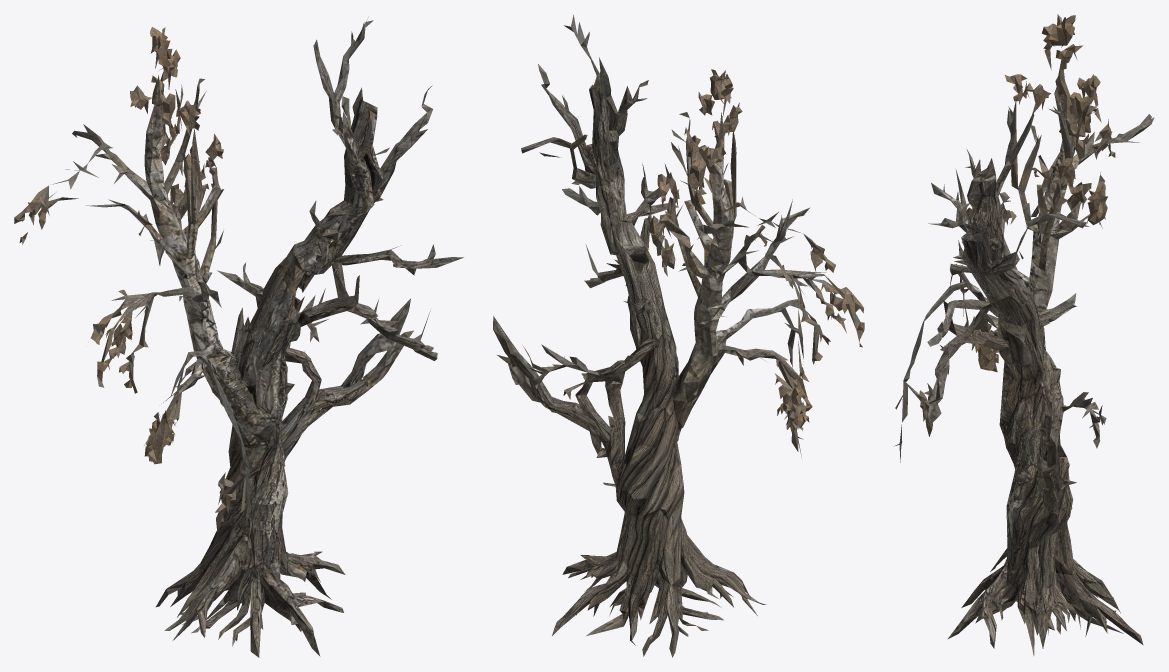
Rendered from Dead_Autumn_Tree_6000.glb.
3 views of the same model, side by side, from view 1: azimuth 30°, elevation 25°; view 2: azimuth 150°, elevation 25°; view 3: azimuth 270°, elevation 25° (orthographic). The views are drawn at different scales.
Visible parts, largest first — view 1: output_unwrapped; view 2: output_unwrapped; view 3: output_unwrapped.
Boxes of the visible parts, x1=… form: output_unwrapped: x1=14, y1=19, x2=463, y2=657; output_unwrapped: x1=493, y1=15, x2=864, y2=657; output_unwrapped: x1=894, y1=14, x2=1154, y2=656.
Size of the model in its own units: 6.17 by 9.5 by 3.89.
Materials: 1 (1 with a texture image).
